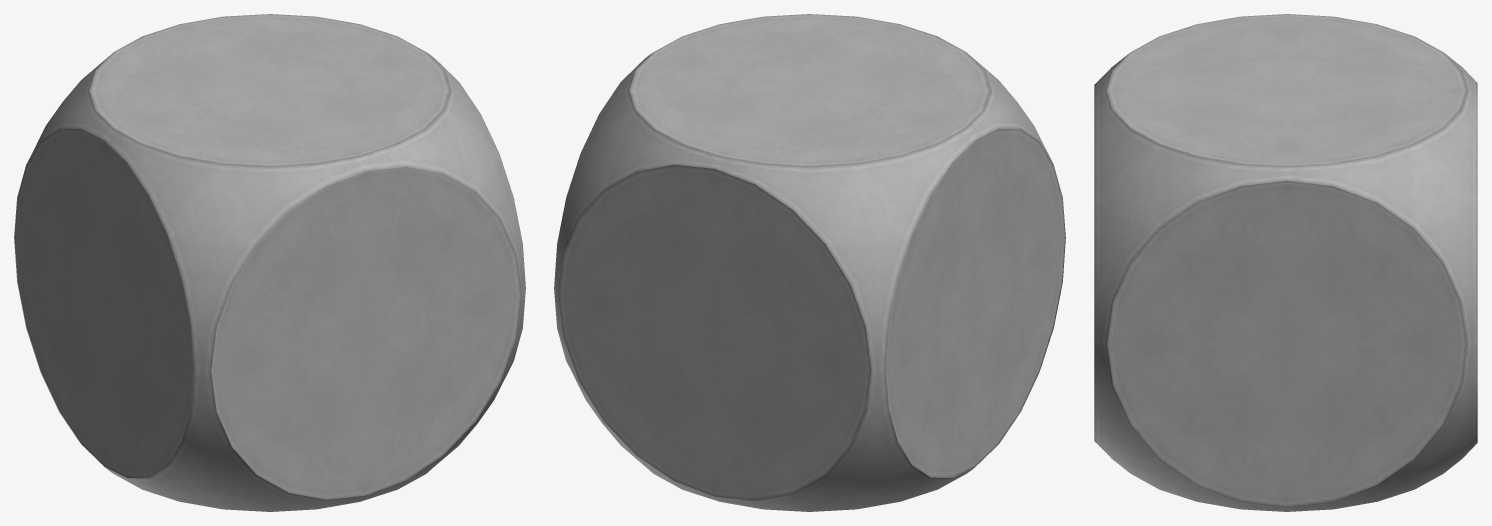
File: node interior.obj
3 views of the same model, side by side, from view 1: azimuth 30°, elevation 25°; view 2: azimuth 150°, elevation 25°; view 3: azimuth 270°, elevation 25° (orthographic).
Parts seen in each view (by area): view 1: i2; view 2: i2; view 3: i2.
Part boxes in pixels (x1,y1,x2,y2): i2: (14,14,525,511); i2: (554,14,1065,511); i2: (1094,14,1477,511).
Bounding box in the file's own units: 0.9807 × 0.975 × 0.9806.
1 material, 1 textured.
